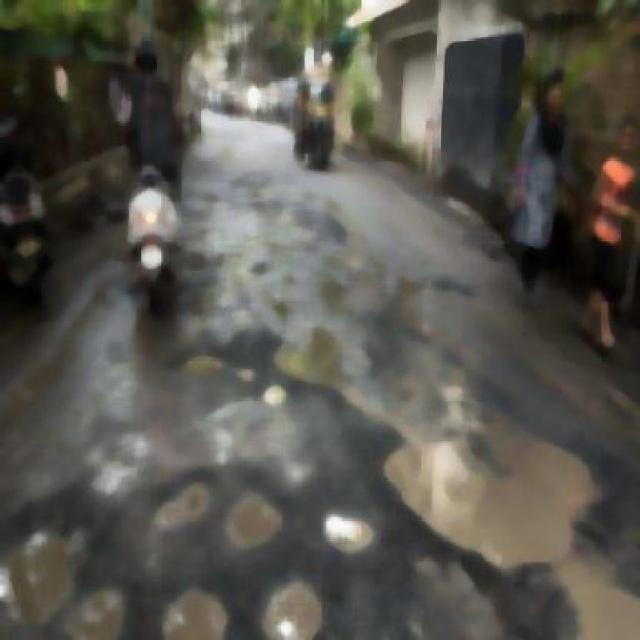Pothole: (347, 320, 588, 592), (0, 507, 108, 631), (144, 444, 225, 568), (233, 447, 279, 555), (156, 587, 244, 639), (253, 578, 322, 639), (343, 614, 448, 638)
